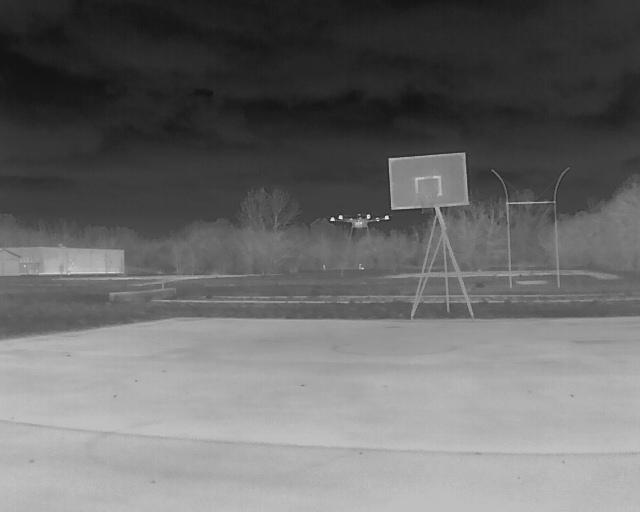drone: (322, 207, 396, 247)
